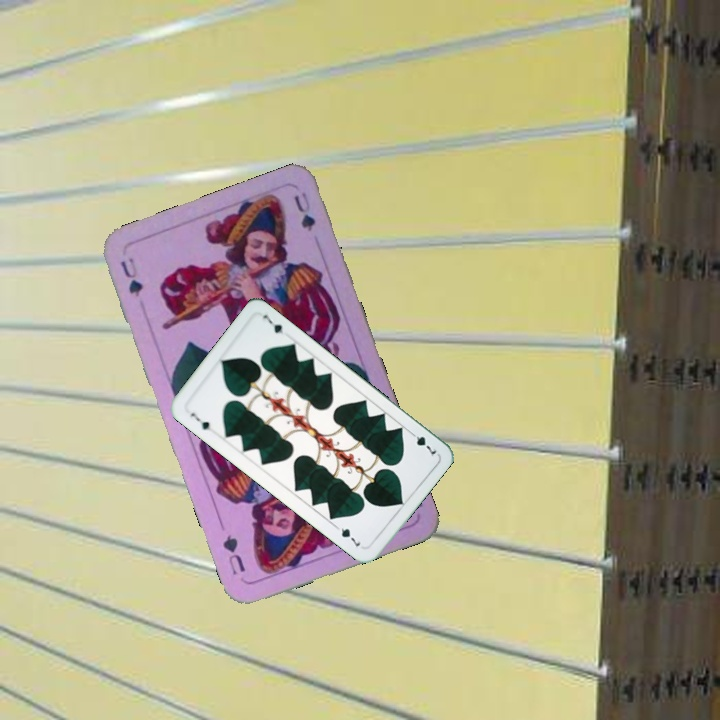G7: (405, 427, 439, 459), (186, 408, 213, 432)
GU: (116, 253, 146, 300)
